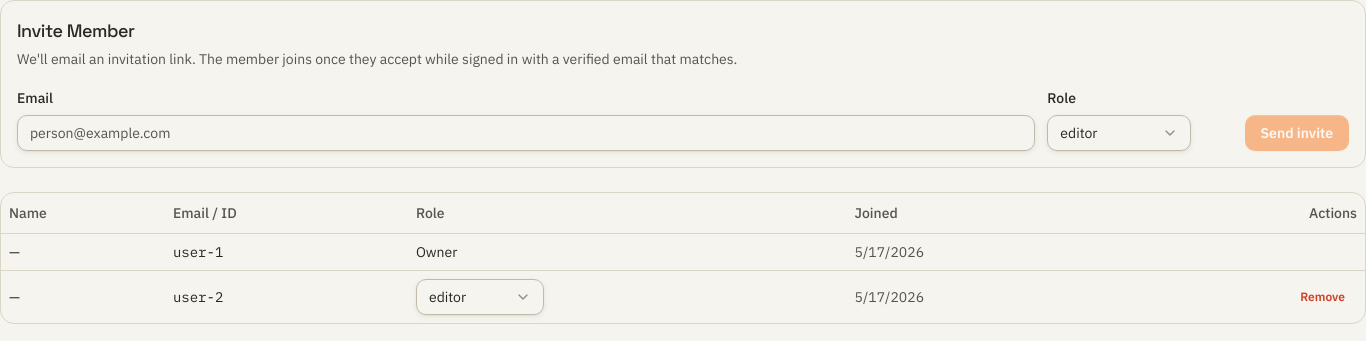
Scenario: WorkspaceMembers › blocks self-removal but allows removing other members
The image size is (1366, 341).
Expected: the text "user-2" is shown, [173,288,223,306]
Click the button "Remove": (1323, 296) [1288,280,1357,312]
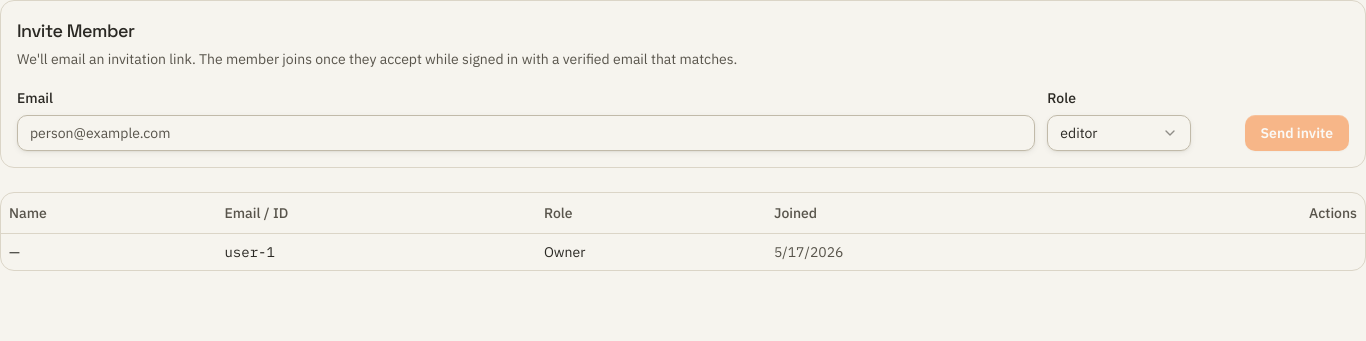
Expected: the text "user-2" is gone
